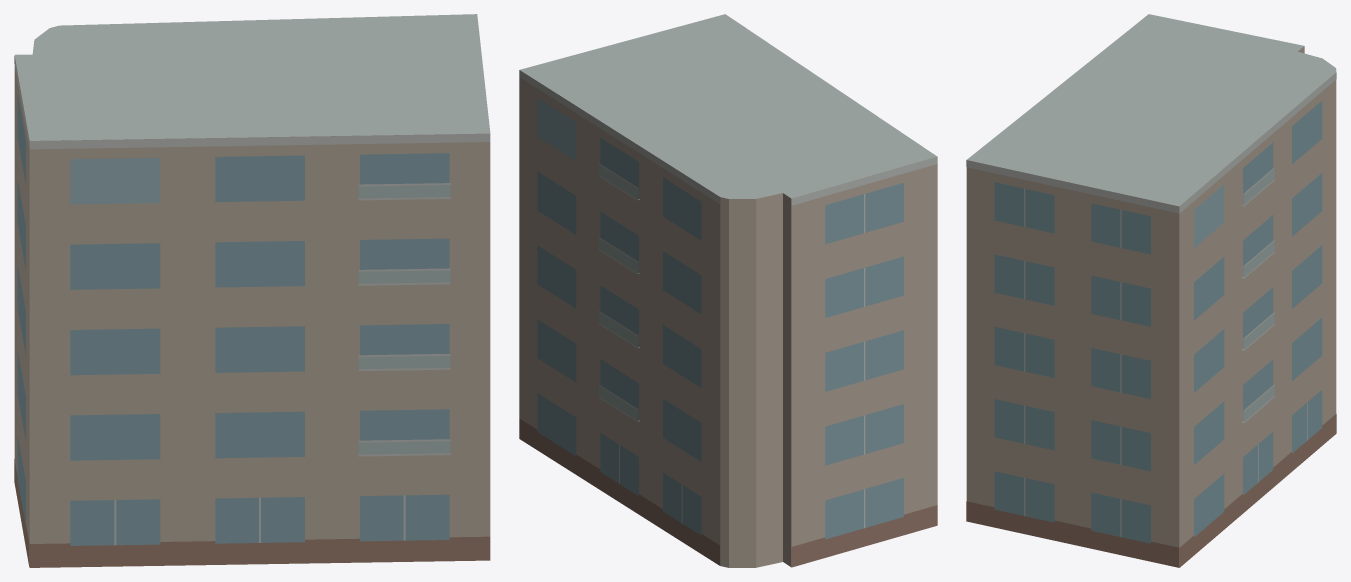
Rendered from survey-upis-32733041.glb.
The picture shows the model from 3 angles, left to right: view 1: azimuth 30°, elevation 25°; view 2: azimuth 150°, elevation 25°; view 3: azimuth 270°, elevation 25°; orthographic projection. The views are drawn at different scales.
Visible parts, largest first — view 1: survey-upis-32733041.tmp; view 2: survey-upis-32733041.tmp; view 3: survey-upis-32733041.tmp.
Part boxes in pixels (x1,y1,x2,y2): survey-upis-32733041.tmp: (14,14,490,567); survey-upis-32733041.tmp: (519,14,937,567); survey-upis-32733041.tmp: (966,14,1336,567).
Size of the model in its own units: 14.11 by 12.35 by 11.47.
